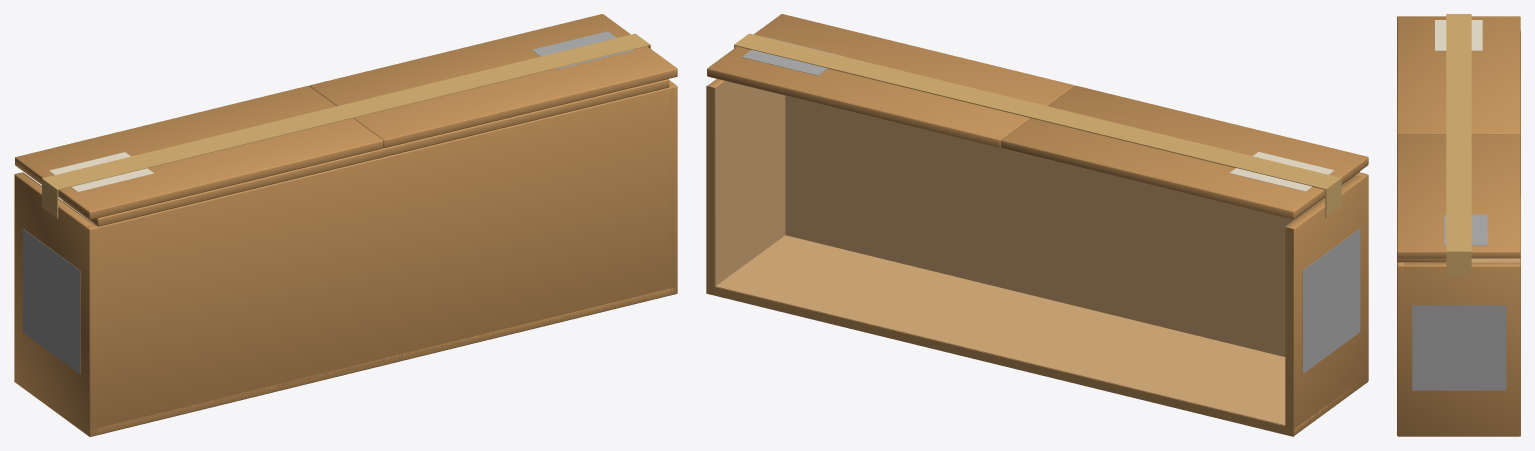
The picture shows the model from 3 angles, left to right: view 1: azimuth 30°, elevation 25°; view 2: azimuth 150°, elevation 25°; view 3: azimuth 270°, elevation 25°; orthographic projection. The views are drawn at different scales.
Parts seen in each view (by area): view 1: box_6x2, FlapR, FlapL, Tape, FlapB; view 2: box_6x2, FlapR, FlapL, Tape; view 3: box_6x2, FlapL, FlapR, Tape, FlapB.
Boxes of the visible parts, bbox=[...] form: box_6x2: bbox=[14, 80, 677, 436]; FlapR: bbox=[15, 86, 383, 219]; FlapL: bbox=[309, 14, 677, 147]; Tape: bbox=[42, 33, 650, 218]; FlapB: bbox=[62, 79, 669, 226]; box_6x2: bbox=[706, 79, 1368, 436]; FlapR: bbox=[1000, 85, 1368, 219]; FlapL: bbox=[707, 14, 1074, 147]; Tape: bbox=[734, 33, 1341, 217]; box_6x2: bbox=[1397, 30, 1520, 436]; FlapL: bbox=[1397, 134, 1520, 258]; FlapR: bbox=[1397, 16, 1520, 134]; Tape: bbox=[1446, 14, 1471, 275]; FlapB: bbox=[1397, 258, 1446, 262].
Size of the model in its own units: 1.56 by 0.5685 by 0.3428.
